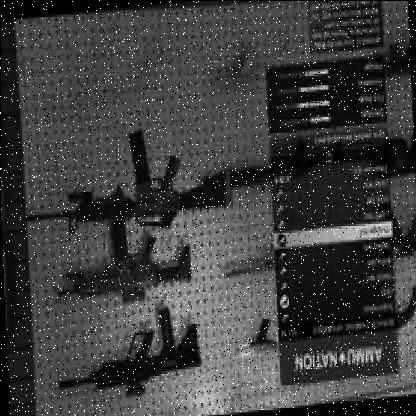rifle: (22, 125, 238, 248), (56, 314, 204, 400)
